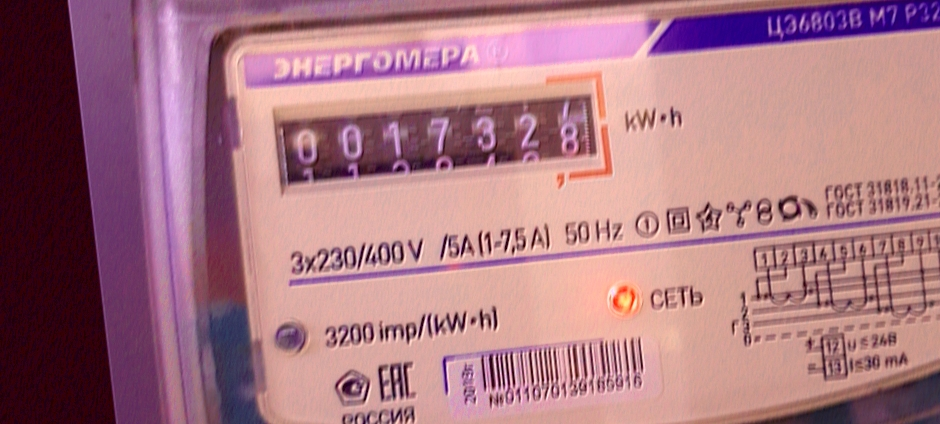0: (291, 125, 322, 167), (339, 121, 366, 161)
1: (384, 118, 406, 159)
2: (515, 110, 541, 150)
3: (474, 114, 499, 152)
7: (428, 114, 454, 155)
8: (558, 119, 580, 156)
screen: (261, 66, 625, 221)
